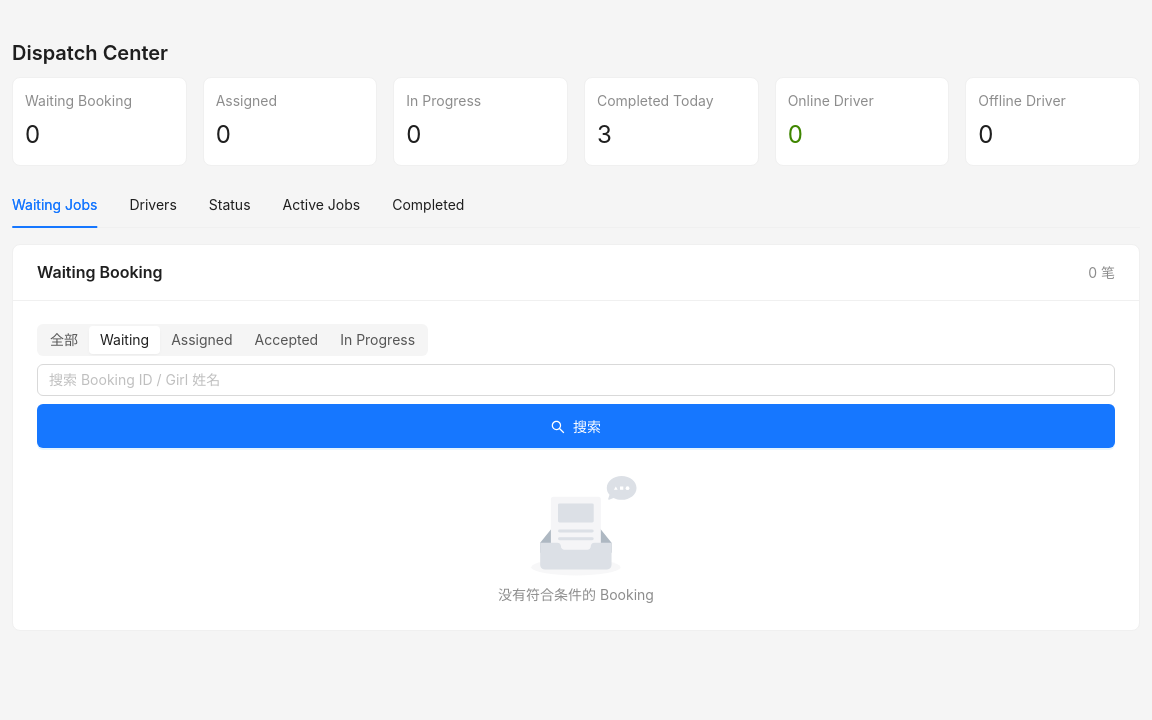
DispatchCenterPage Completed Tab（Mobile UX + Scheduling Sprint） › Completed Tab 没有资料时显示「这一天没有已完成的 Leg」，不是跟 Waiting 共用的空状态文字
Click the tab "Completed".
click(428, 205)  # box [392,194,464,216]
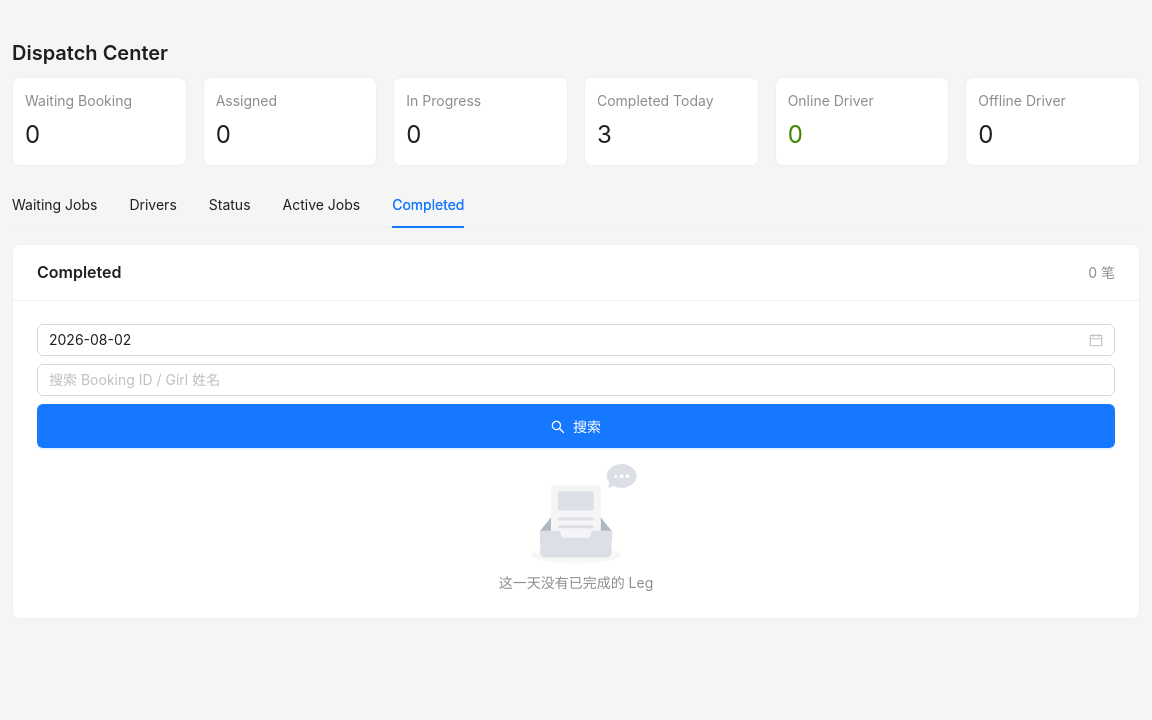
Now the text "这一天没有已完成的 Leg" is shown, box [499,574,653,591]
